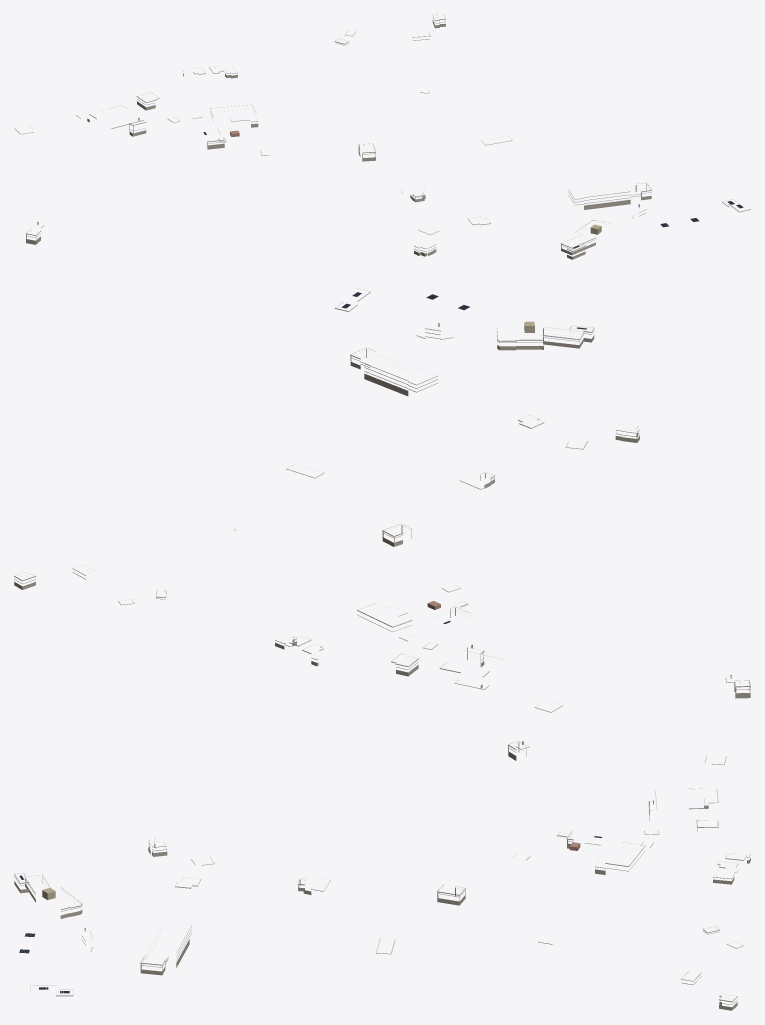
The picture shows the model from 3 angles, top to bottom: view 1: azimuth 30°, elevation 25°; view 2: azimuth 150°, elevation 25°; view 3: azimuth 270°, elevation 25°; orthographic projection. The views are drawn at different scales.
Parts seen in each view (by area): view 1: detail; view 2: detail; view 3: detail.
Boxes of the visible parts, x1,y1,x2,y2 form: detail: (14,14,750,259); detail: (14,288,750,712); detail: (14,741,750,1010).
Size of the model in its own units: 492 by 61.36 by 501.
